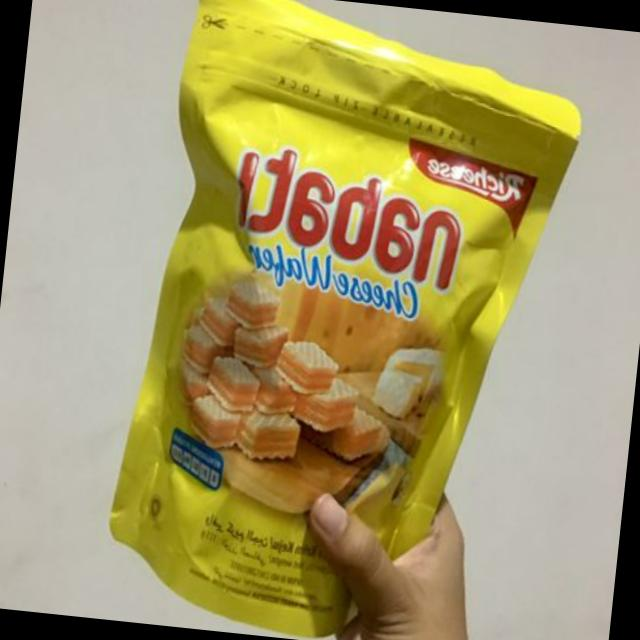KemasanPlastik: (96, 0, 593, 640)
